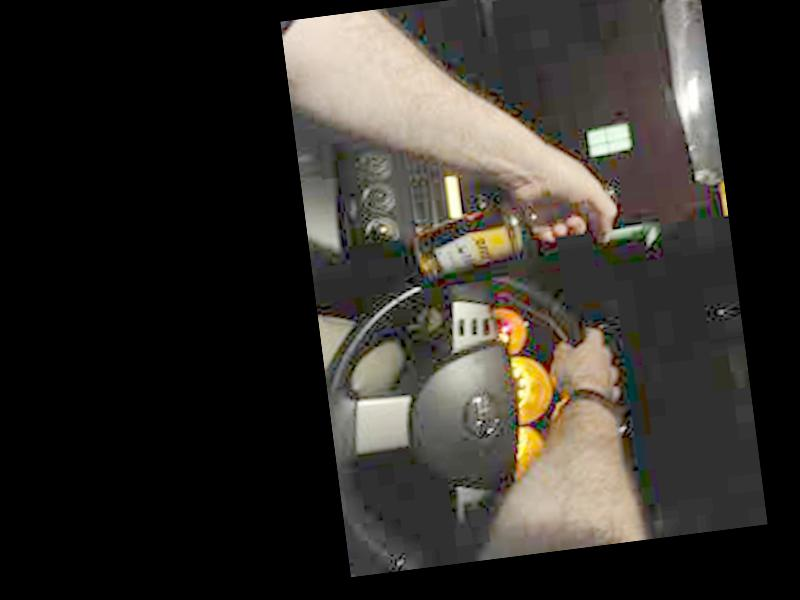Beer: (412, 181, 622, 286)
